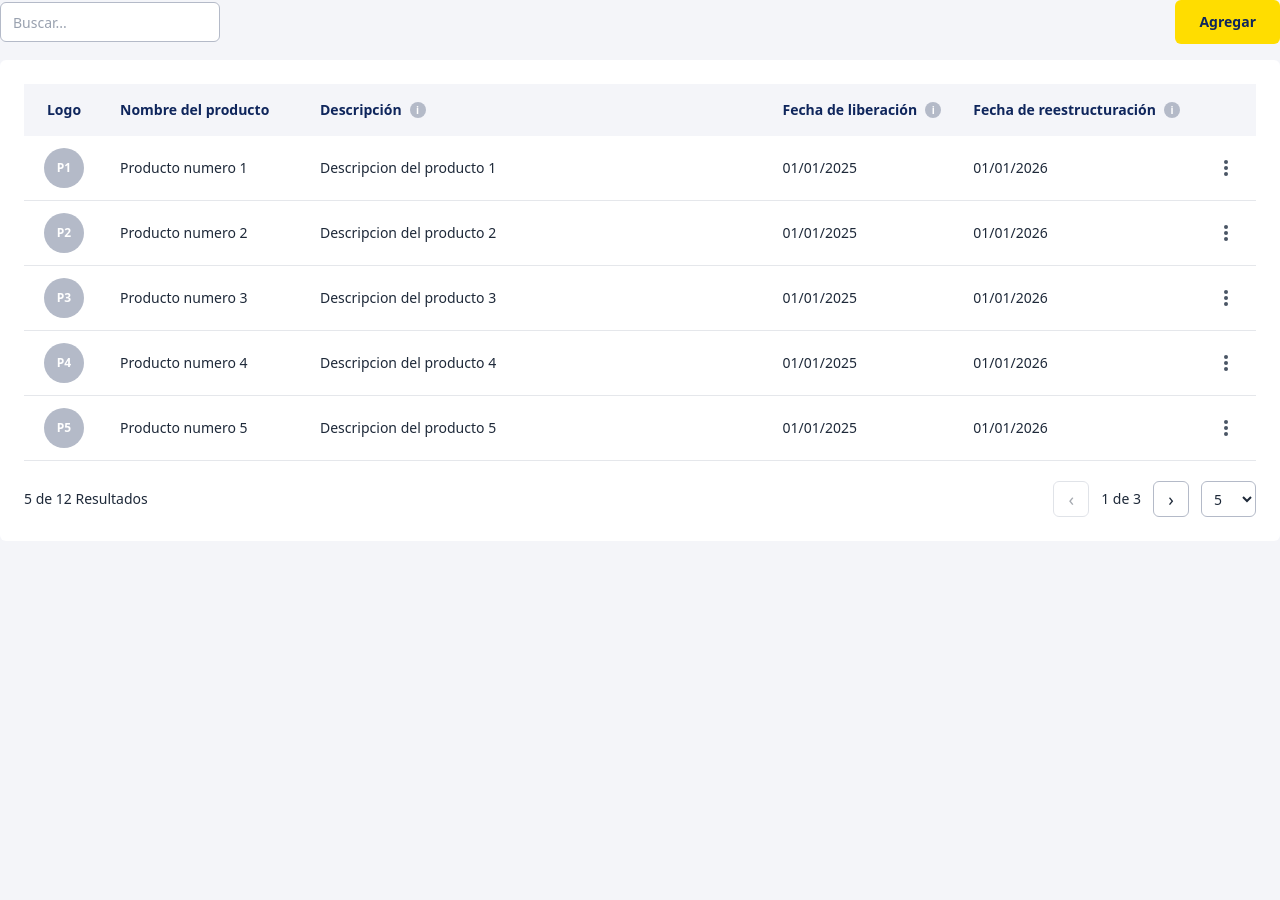
Test case: ProductsComponent › cantidad de registros y paginacion › deberia cambiar la cantidad de filas segun lo que se escoja en el select
Select "10" in the dropdown named "Cantidad de registros a mostrar" at (1228, 499), box x1=1201 y1=481 x2=1256 y2=517
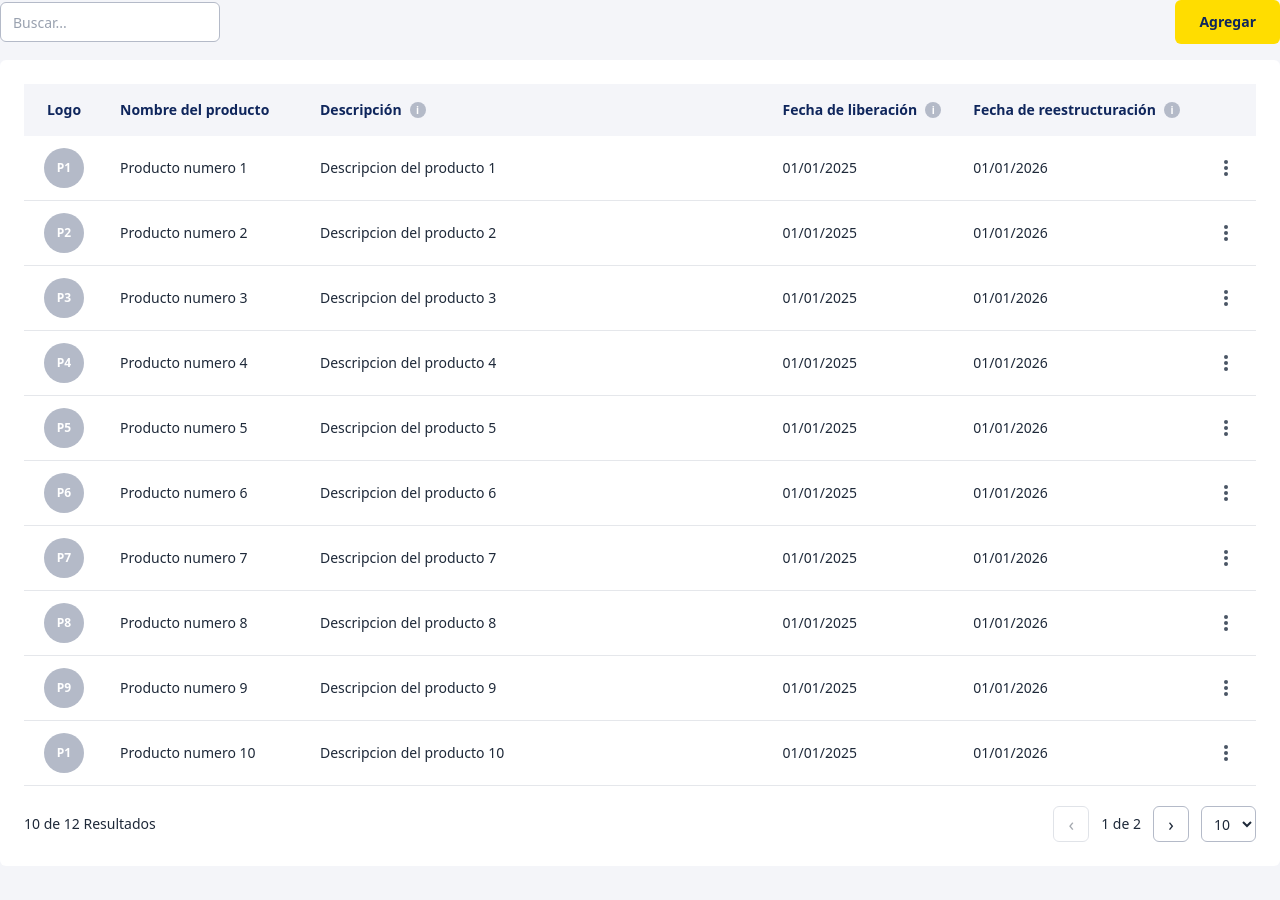
Check: the text with class "font-medium" reads "10 de 12 Resultados", box x1=24 y1=814 x2=156 y2=833
Select "20" in the dropdown named "Cantidad de registros a mostrar" at (1228, 824), box x1=1201 y1=806 x2=1256 y2=842
(page scrolled)
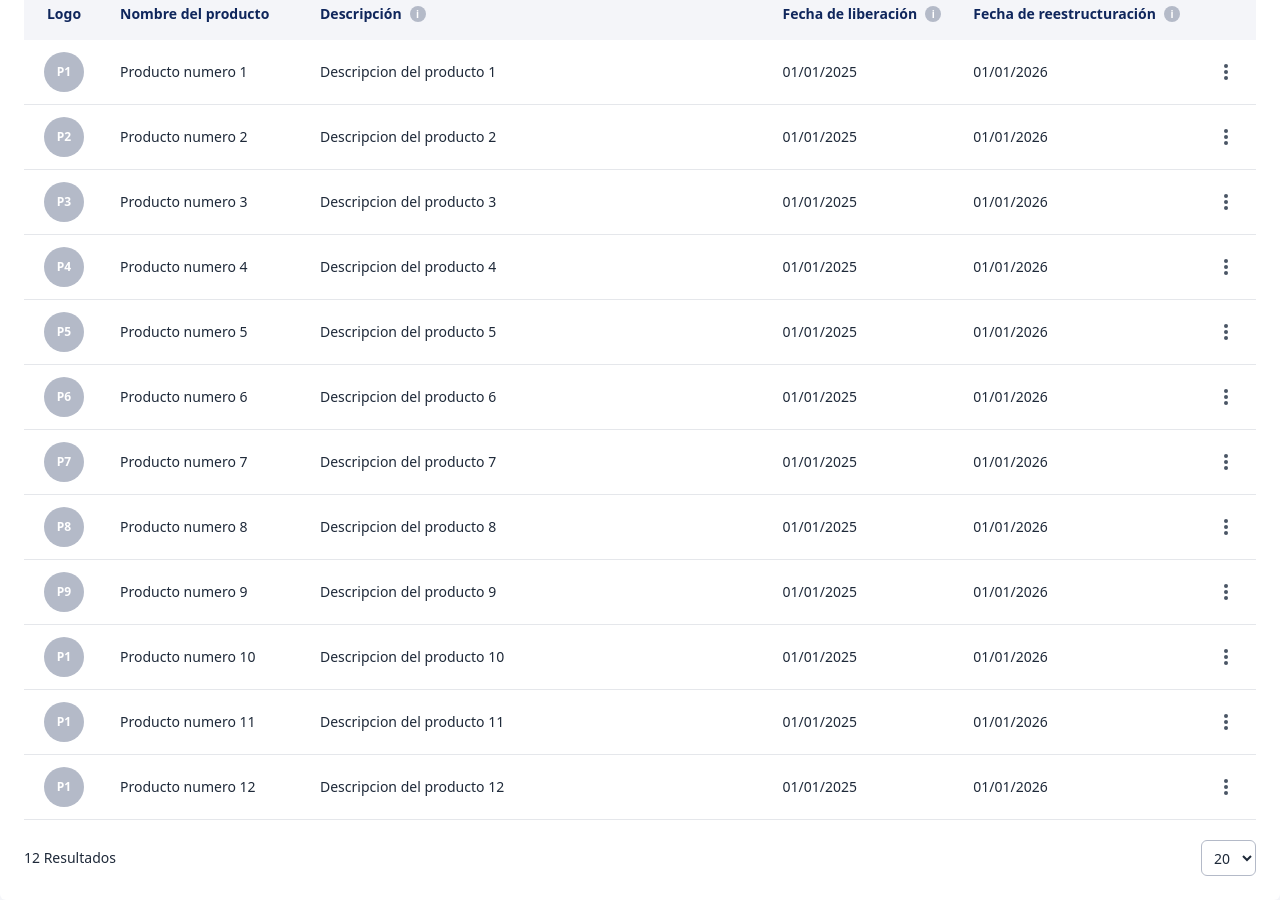
Check: the text with class "font-medium" reads "12 Resultados", box x1=24 y1=848 x2=116 y2=867
